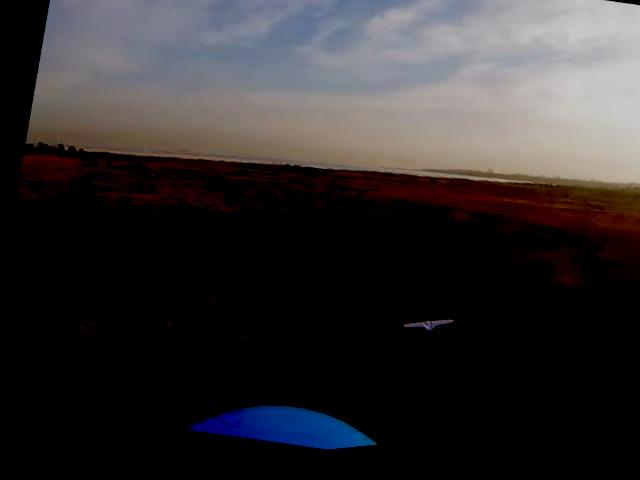uav: (392, 311, 453, 351)
